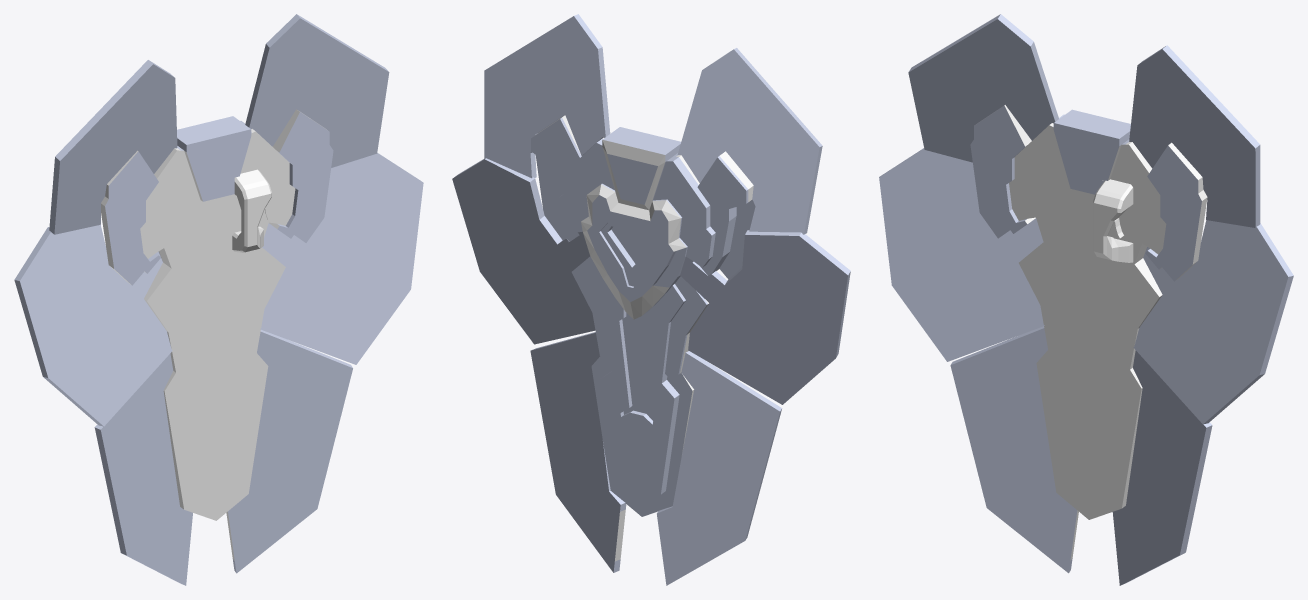
File: teck_shild.dae
The picture shows the model from 3 angles, left to right: view 1: azimuth 30°, elevation 25°; view 2: azimuth 150°, elevation 25°; view 3: azimuth 330°, elevation 25°; orthographic projection. The views are drawn at different scales.
Parts seen in each view (by area): view 1: SketchUp (×16); view 2: SketchUp (×17); view 3: SketchUp (×16).
Part boxes in pixels (bbox=[...]): SketchUp (×16): bbox=[14, 14, 423, 585]; SketchUp (×17): bbox=[452, 14, 850, 585]; SketchUp (×16): bbox=[879, 14, 1293, 585].
Bounding box in the file's own units: 1971 × 276 × 2556.
